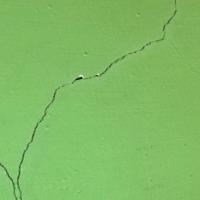crack: (1, 11, 155, 199)
